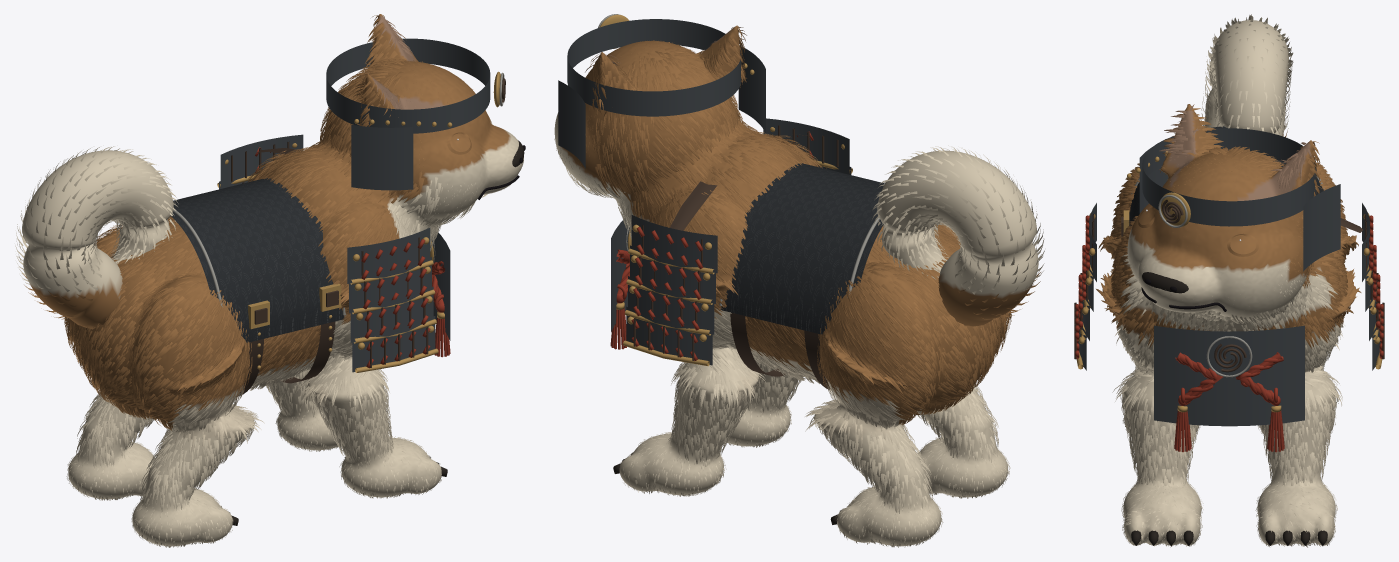
The model's file is 02_Daigo.glb.
3 renders of one model, left to right at view 1: azimuth 30°, elevation 25°; view 2: azimuth 150°, elevation 25°; view 3: azimuth 270°, elevation 25°, orthographic. The views are drawn at different scales.
Visible parts, largest first — view 1: ANATOMY | unified canine skin, FUR | groomed tapered surface clumps, TACK | fitted saddle cloth, ANATOMY | sculpted tail, ARMOR | brow helmet band, FUR | directional tail plume, ARMOR | shoulder lame, ARMOR | shoulder lame.003, ARMOR | shoulder lame.002, ARMOR | shoulder lame.001, ARMOR | shoulder lame.004, ARMOR | helmet cheek guard (+3 smaller); view 2: ANATOMY | unified canine skin, FUR | groomed tapered surface clumps, TACK | fitted saddle cloth, ANATOMY | sculpted tail, ARMOR | brow helmet band, FUR | directional tail plume, ARMOR | shoulder lame.004, ARMOR | shoulder lame.007, ARMOR | shoulder lame, ARMOR | shoulder lame.006, ARMOR | shoulder lame.005, TACK | shaped belly girth.001 (+6 smaller); view 3: ANATOMY | unified canine skin, FUR | groomed tapered surface clumps, ANATOMY | sculpted tail, ARMOR | brow helmet band, ARMOR | front chest lame, ARMOR | front chest lame.002, ARMOR | front chest lame.001, FUR | directional tail plume, ARMOR | helmet cheek guard.003, ARMOR | helmet cheek guard.004, ARMOR | helmet cheek guard.005, FACE | shaped leather nose (+4 smaller).
Boxes of the visible parts, box(x1,y1,x2,y2) form: ANATOMY | unified canine skin: box(68, 14, 523, 546); FUR | groomed tapered surface clumps: box(64, 15, 495, 547); TACK | fitted saddle cloth: box(170, 178, 344, 342); ANATOMY | sculpted tail: box(22, 150, 173, 329); ARMOR | brow helmet band: box(326, 38, 490, 133); FUR | directional tail plume: box(15, 146, 178, 319); ARMOR | shoulder lame: box(347, 227, 430, 283); ARMOR | shoulder lame.003: box(352, 316, 435, 372); ARMOR | shoulder lame.002: box(350, 286, 433, 342); ARMOR | shoulder lame.001: box(349, 257, 431, 313); ARMOR | shoulder lame.004: box(220, 134, 303, 188); ARMOR | helmet cheek guard: box(351, 124, 413, 151); ANATOMY | unified canine skin: box(554, 25, 1007, 546); FUR | groomed tapered surface clumps: box(554, 26, 1011, 547); TACK | fitted saddle cloth: box(720, 163, 884, 334); ANATOMY | sculpted tail: box(877, 150, 1038, 326); ARMOR | brow helmet band: box(567, 19, 741, 116); FUR | directional tail plume: box(871, 145, 1044, 321); ARMOR | shoulder lame.004: box(631, 215, 717, 273); ARMOR | shoulder lame.007: box(626, 306, 712, 365); ARMOR | shoulder lame: box(763, 118, 849, 174); ARMOR | shoulder lame.006: box(628, 276, 714, 334); ARMOR | shoulder lame.005: box(630, 245, 715, 303); TACK | shaped belly girth.001: box(730, 312, 789, 376); ANATOMY | unified canine skin: box(1102, 104, 1355, 545); FUR | groomed tapered surface clumps: box(1096, 104, 1361, 547); ANATOMY | sculpted tail: box(1204, 20, 1288, 136); ARMOR | brow helmet band: box(1142, 128, 1316, 226); ARMOR | front chest lame: box(1154, 325, 1304, 369); ARMOR | front chest lame.002: box(1154, 382, 1304, 426); ARMOR | front chest lame.001: box(1154, 354, 1304, 397); FUR | directional tail plume: box(1201, 14, 1293, 137); ARMOR | helmet cheek guard.003: box(1303, 184, 1340, 231); ARMOR | helmet cheek guard.004: box(1303, 205, 1340, 251); ARMOR | helmet cheek guard.005: box(1303, 224, 1340, 271); FACE | shaped leather nose: box(1142, 272, 1188, 293).
Bounding box in the file's own units: 1.56 × 1.31 × 0.8538.
Materials: 11 (1 with a texture image).
